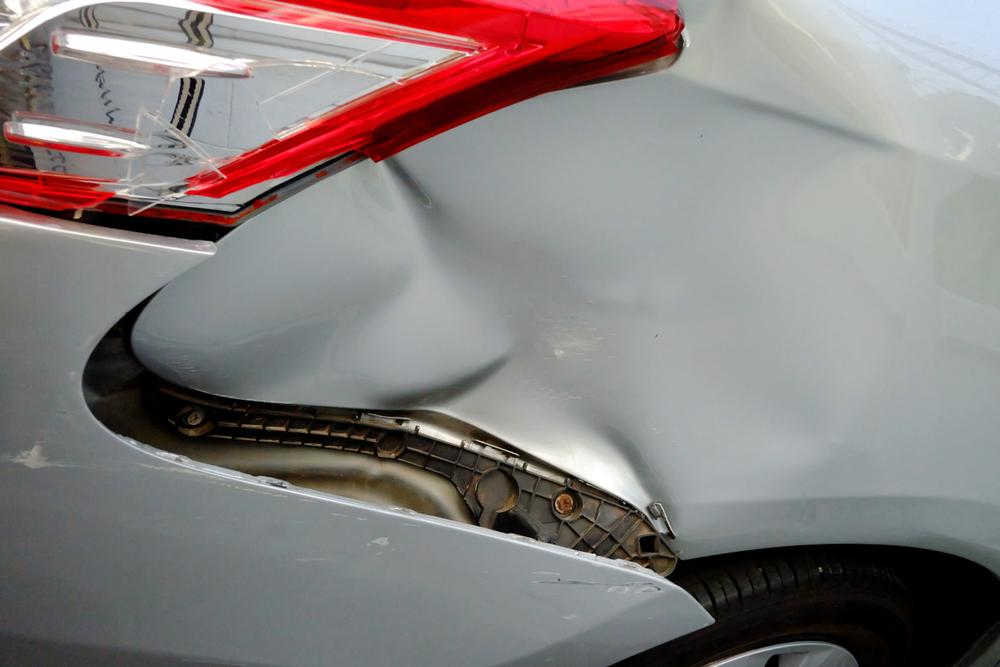dent: (207, 148, 891, 515)
lamp broken: (0, 0, 674, 242)
